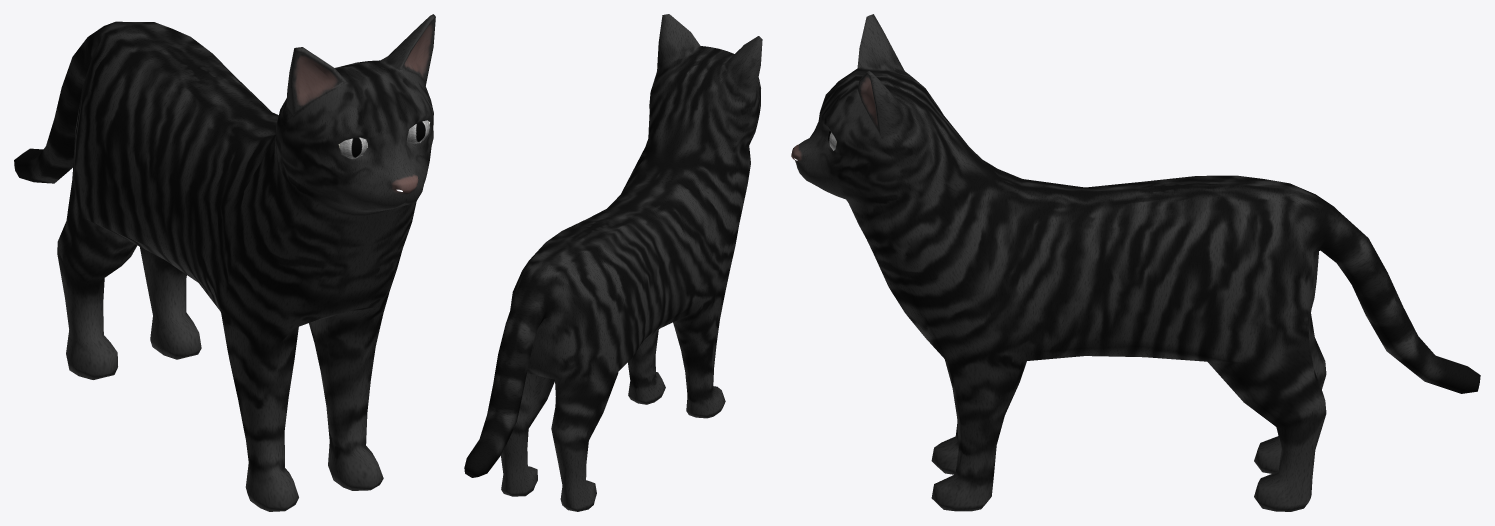
File: cat_MTblack.glb
The picture shows the model from 3 angles, left to right: view 1: azimuth 30°, elevation 25°; view 2: azimuth 150°, elevation 25°; view 3: azimuth 270°, elevation 25°; orthographic projection. The views are drawn at different scales.
Parts seen in each view (by area): view 1: body cat_geo.001, cat_geo eyes.001; view 2: body cat_geo.001; view 3: body cat_geo.001.
Part boxes in pixels (x1=…): body cat_geo.001: x1=14, y1=14, x2=435, y2=511; cat_geo eyes.001: x1=338, y1=120, x2=429, y2=158; body cat_geo.001: x1=464, y1=14, x2=762, y2=511; body cat_geo.001: x1=791, y1=14, x2=1480, y2=511.
Bounding box in the file's own units: 1572 × 5053 × 7130.
2 materials, 2 textured.
